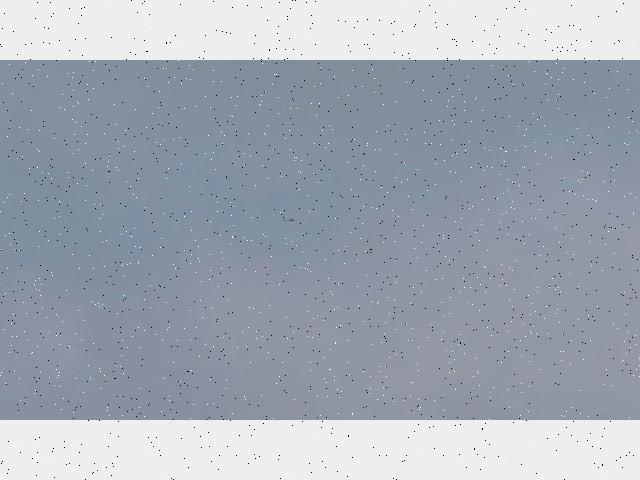Anti-Drone: (282, 217, 296, 223)
